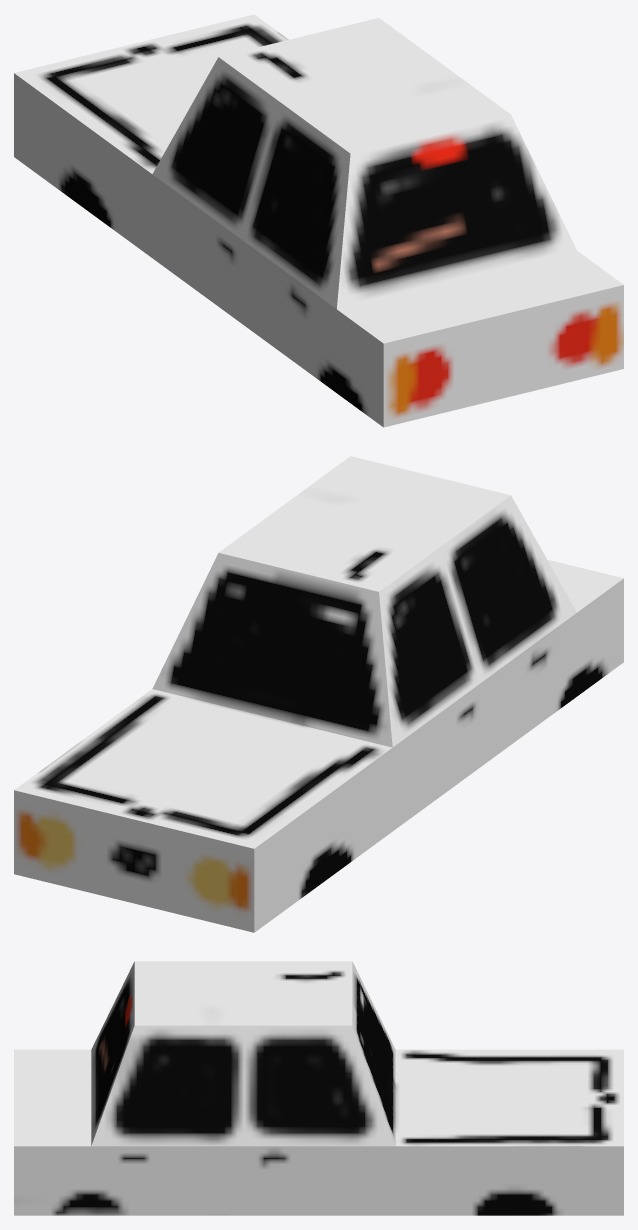
The model's file is test_car.obj.
3 renders of one model, top to bottom at view 1: azimuth 30°, elevation 25°; view 2: azimuth 150°, elevation 25°; view 3: azimuth 270°, elevation 25°, orthographic. The views are drawn at different scales.
Visible parts, largest first — view 1: Cube; view 2: Cube; view 3: Cube.
Part boxes in pixels (left/top/right/bottom): Cube: left=14, top=14, right=623, bottom=427; Cube: left=14, top=456, right=623, bottom=932; Cube: left=14, top=961, right=623, bottom=1215.
Bounding box in the file's own units: 3 × 2.51 × 7.98.
